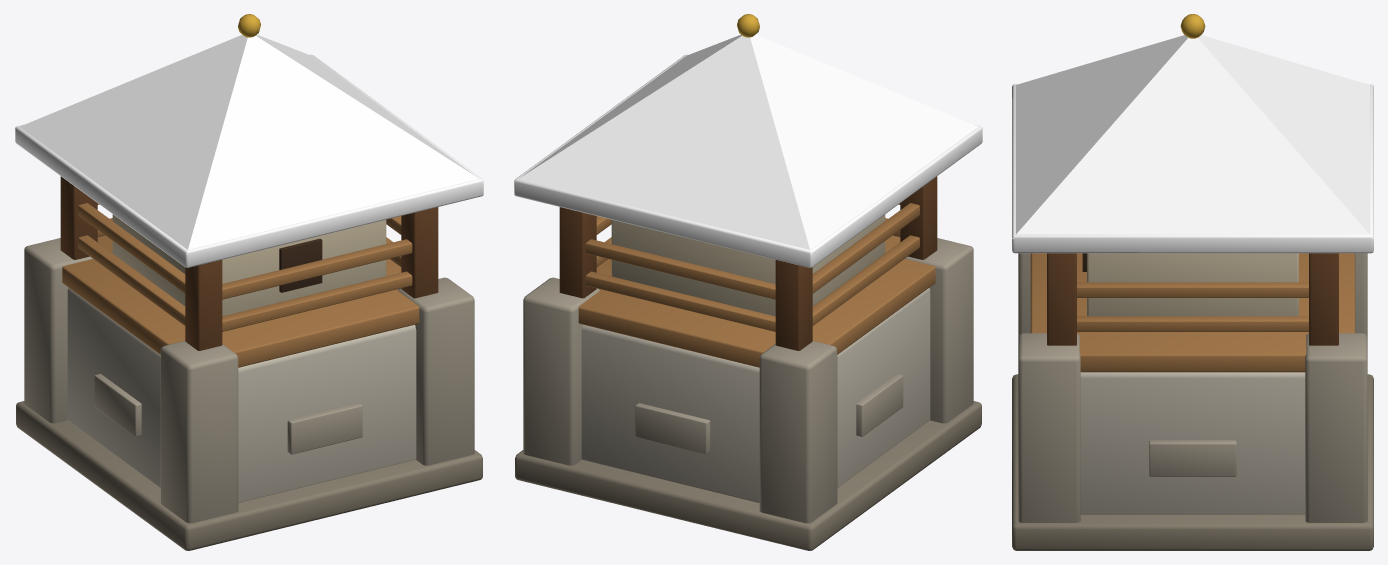
The model's file is arrow_tower.glb.
3 views of the same model, side by side, from view 1: azimuth 30°, elevation 25°; view 2: azimuth 150°, elevation 25°; view 3: azimuth 270°, elevation 25° (orthographic). The views are drawn at different scales.
Visible parts, largest first — view 1: SK_arrow_tower; view 2: SK_arrow_tower; view 3: SK_arrow_tower.
Boxes of the visible parts, x1=… form: SK_arrow_tower: x1=14, y1=14, x2=483, y2=550; SK_arrow_tower: x1=514, y1=14, x2=983, y2=550; SK_arrow_tower: x1=1012, y1=14, x2=1373, y2=550.
Size of the model in its own units: 2.9 by 4.08 by 2.9.
